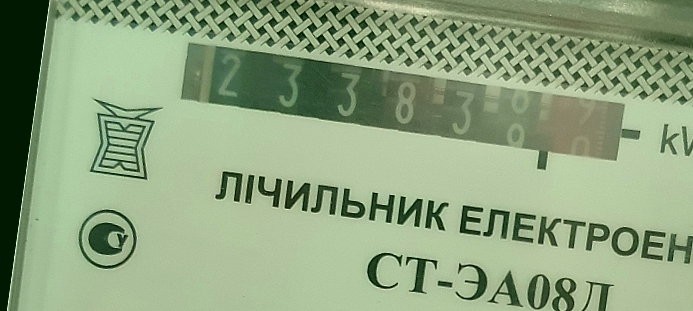0: (566, 130, 594, 158)
2: (212, 48, 245, 100)
3: (272, 58, 305, 111), (332, 68, 363, 121), (446, 86, 477, 137)
8: (389, 77, 419, 126), (504, 87, 535, 117)
9: (499, 117, 530, 149), (570, 95, 598, 127)
screen: (164, 28, 644, 184)
